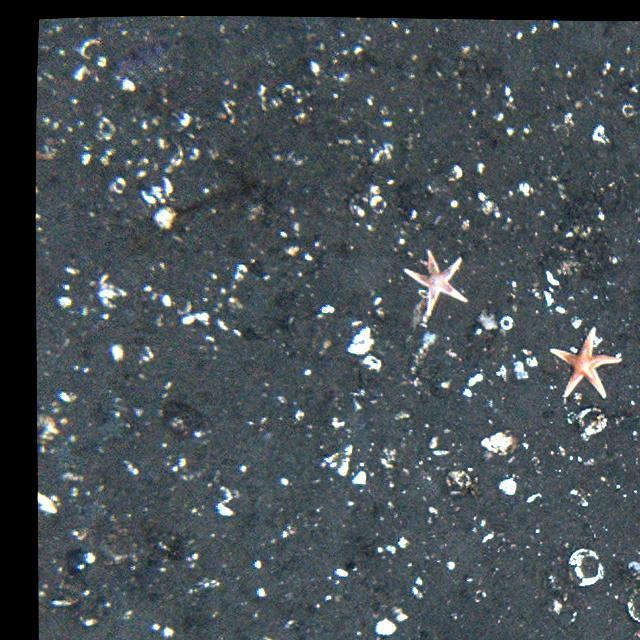flatfish: (108, 31, 187, 87)
